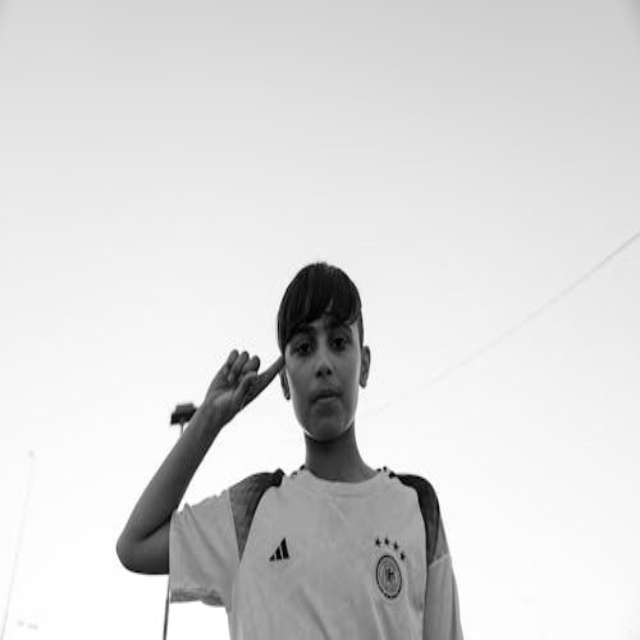Sin_gafas: (289, 325, 357, 356)
Sin_guantes: (195, 346, 279, 432)
Sin_mascara: (302, 381, 348, 432)
